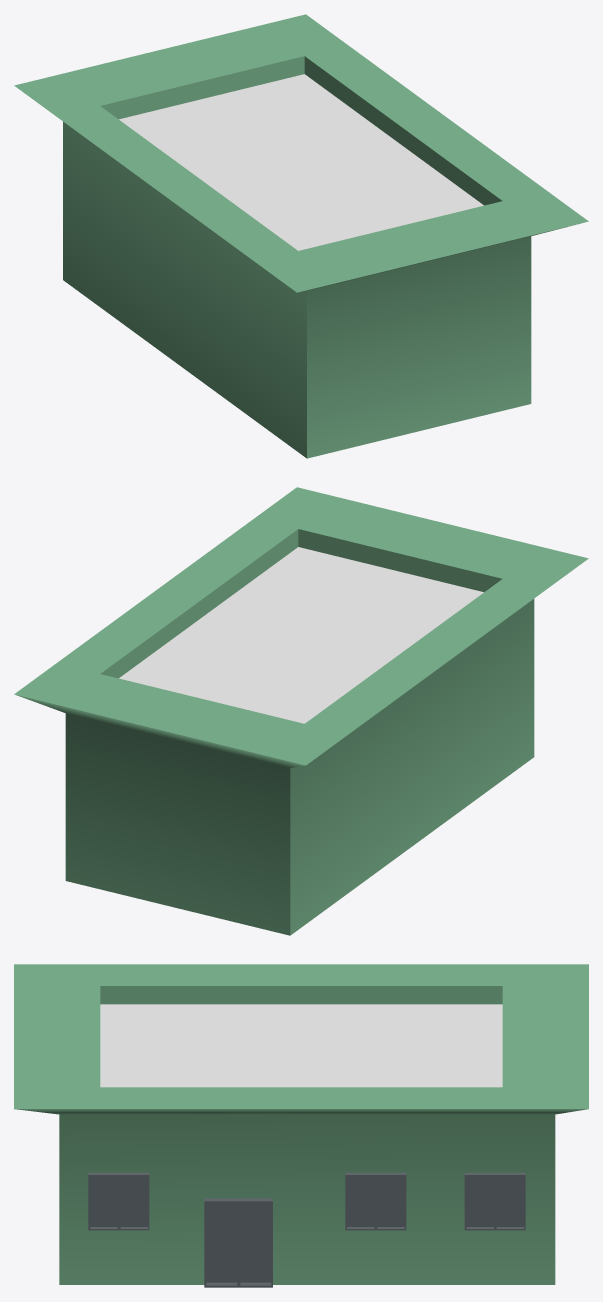
Rendered from fang8.dae.
The picture shows the model from 3 angles, top to bottom: view 1: azimuth 30°, elevation 25°; view 2: azimuth 150°, elevation 25°; view 3: azimuth 270°, elevation 25°; orthographic projection.
Parts seen in each view (by area): view 1: pCube7; view 2: pCube7; view 3: pCube7, pasted__pasted__pasted__pCube3_pasted__pasted__group2_pasted (×2), pasted__pasted__pCube3_pasted__group2_group7, pasted__pasted__pasted__pasted__pasted__pCube3_pasted__paste.
Boxes of the visible parts, x1=… form: pCube7: x1=14, y1=14, x2=588, y2=458; pCube7: x1=14, y1=487, x2=588, y2=935; pCube7: x1=14, y1=964, x2=588, y2=1284; pasted__pasted__pasted__pCube3_pasted__pasted__group2_pasted (×2): x1=204, y1=1172, x2=525, y2=1287; pasted__pasted__pCube3_pasted__group2_group7: x1=88, y1=1172, x2=149, y2=1230; pasted__pasted__pasted__pasted__pasted__pCube3_pasted__paste: x1=345, y1=1172, x2=406, y2=1230.
Bounding box in the file's own units: 0.0022 × 0.00137 × 0.0037.
